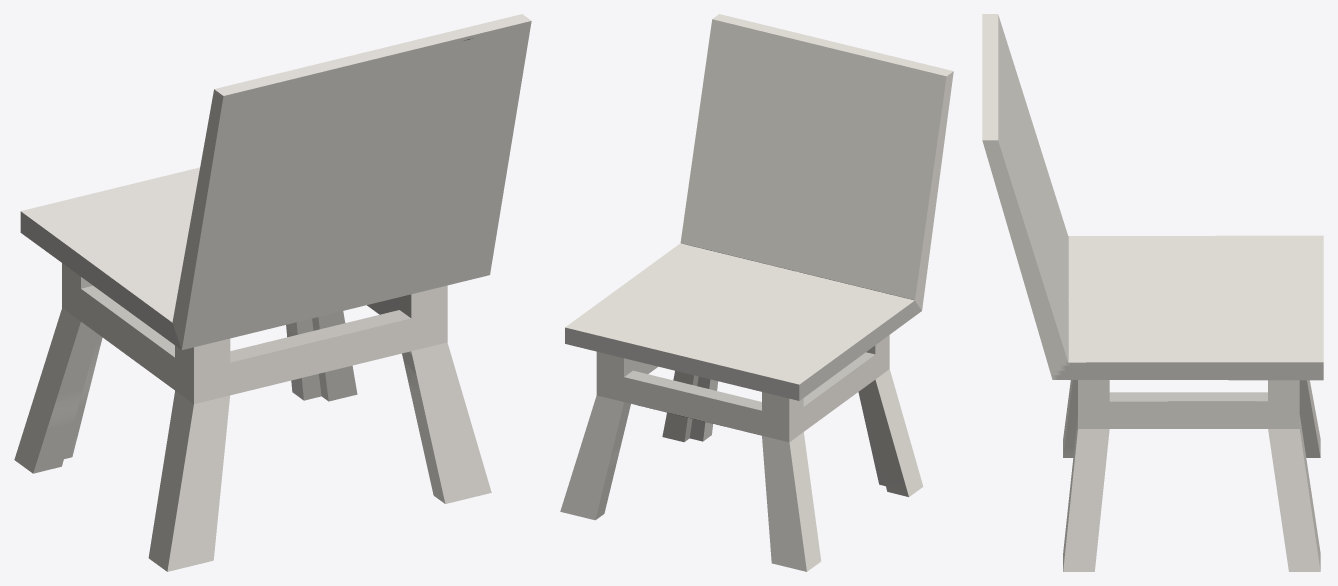
Rendered from chair_small.fbx.
3 views of the same model, side by side, from view 1: azimuth 30°, elevation 25°; view 2: azimuth 150°, elevation 25°; view 3: azimuth 270°, elevation 25° (orthographic). The views are drawn at different scales.
Visible parts, largest first — view 1: Cube; view 2: Cube; view 3: Cube.
Boxes of the visible parts, box(x1,y1,x2,y2) form: Cube: box(14, 14, 531, 571); Cube: box(560, 14, 953, 571); Cube: box(982, 14, 1323, 571).
Bounding box in the file's own units: 0.6 × 0.9 × 0.65.
1 material, 1 textured.
